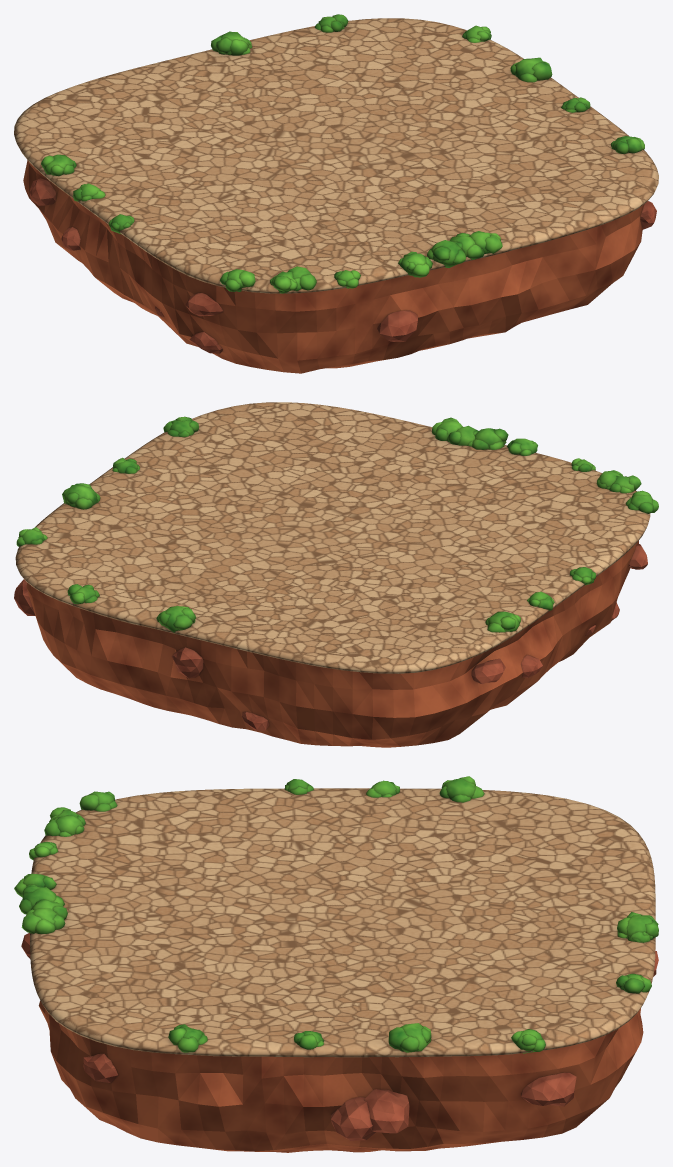
File: MarrakechMedina_Island.fbx
3 renders of one model, top to bottom at view 1: azimuth 30°, elevation 25°; view 2: azimuth 150°, elevation 25°; view 3: azimuth 270°, elevation 25°, orthographic. The views are drawn at different scales.
Parts seen in each view (by area): view 1: Island_Top, Island_Body; view 2: Island_Top, Island_Body; view 3: Island_Top, Island_Body.
Part boxes in pixels (x1=…): Island_Top: x1=14, y1=14, x2=658, y2=293; Island_Body: x1=23, y1=160, x2=656, y2=373; Island_Top: x1=15, y1=402, x2=658, y2=673; Island_Body: x1=14, y1=540, x2=647, y2=747; Island_Top: x1=14, y1=776, x2=658, y2=1057; Island_Body: x1=21, y1=933, x2=658, y2=1152.
Size of the model in its own units: 16.4 by 5.44 by 16.35.
Materials: 1 (1 with a texture image).
